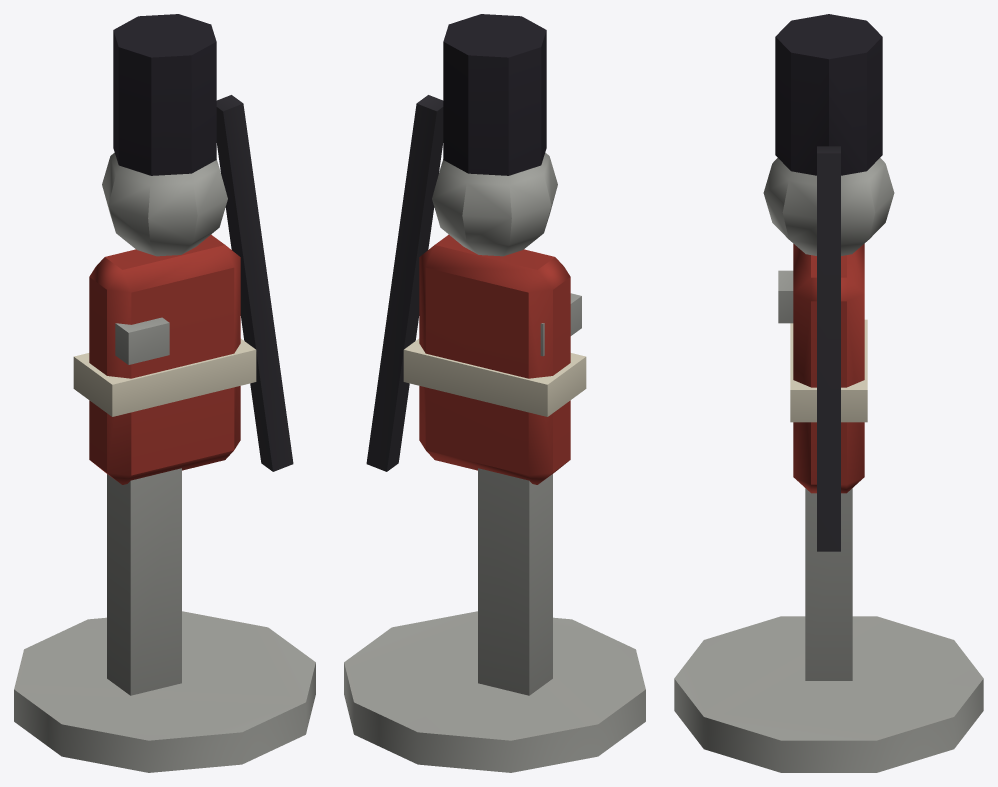
File: curio_tinSoldier.glb
The picture shows the model from 3 angles, left to right: view 1: azimuth 30°, elevation 25°; view 2: azimuth 150°, elevation 25°; view 3: azimuth 270°, elevation 25°; orthographic projection.
Visible parts, largest first — view 1: curio_tinSoldier; view 2: curio_tinSoldier; view 3: curio_tinSoldier.
Boxes of the visible parts, x1,y1,x2,y2 form: curio_tinSoldier: (14, 14, 315, 772); curio_tinSoldier: (344, 14, 645, 772); curio_tinSoldier: (674, 14, 983, 772).
Size of the model in its own units: 0.0495 by 0.125 by 0.052.
